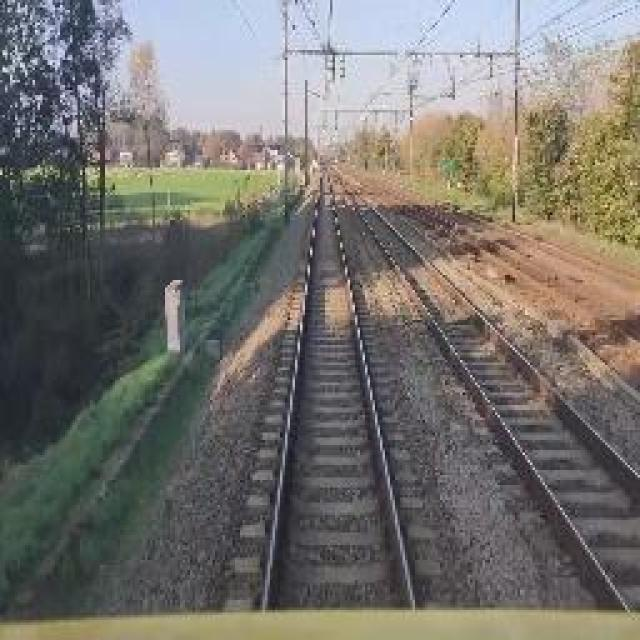rail: (329, 168, 640, 611), (214, 172, 440, 614)
